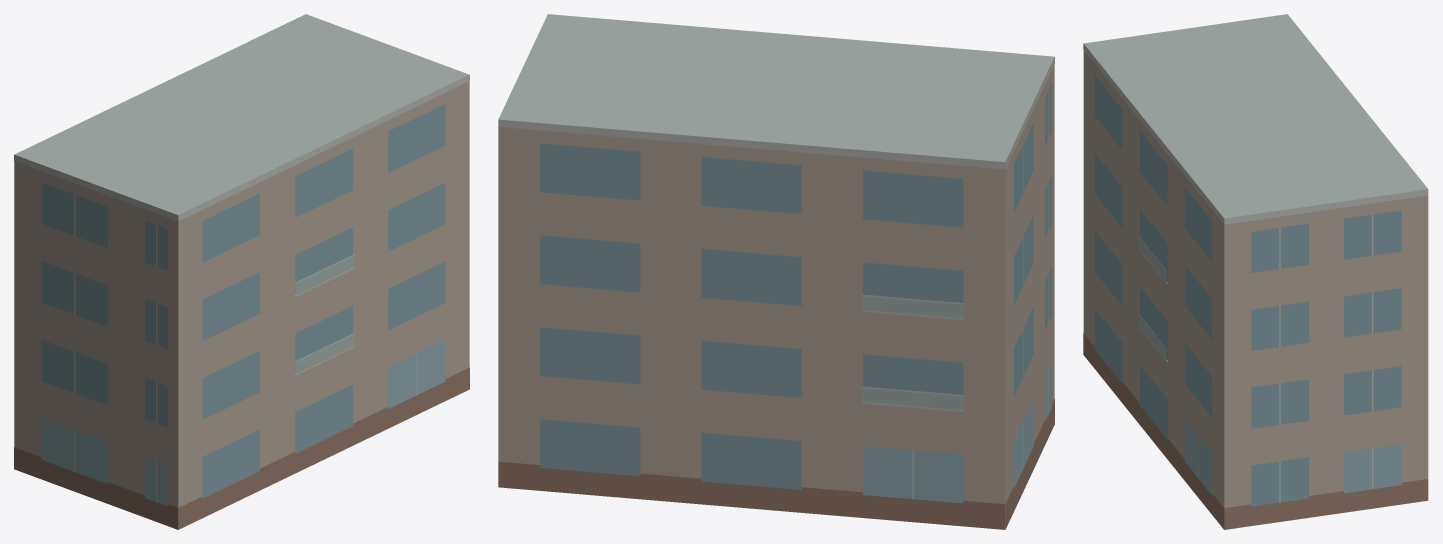
Rendered from residential-e07037ad-1b63-4bad-9655-ccd07be4ef90.glb.
The picture shows the model from 3 angles, left to right: view 1: azimuth 30°, elevation 25°; view 2: azimuth 150°, elevation 25°; view 3: azimuth 270°, elevation 25°; orthographic projection. The views are drawn at different scales.
Parts seen in each view (by area): view 1: residential-e07037ad-1b63-4bad-9655-ccd07be4ef90.tmp; view 2: residential-e07037ad-1b63-4bad-9655-ccd07be4ef90.tmp; view 3: residential-e07037ad-1b63-4bad-9655-ccd07be4ef90.tmp.
Part boxes in pixels (x1,y1,x2,y2): residential-e07037ad-1b63-4bad-9655-ccd07be4ef90.tmp: [14, 14, 469, 529]; residential-e07037ad-1b63-4bad-9655-ccd07be4ef90.tmp: [498, 14, 1054, 529]; residential-e07037ad-1b63-4bad-9655-ccd07be4ef90.tmp: [1083, 14, 1428, 529].
Size of the model in its own units: 17.19 by 12.2 by 12.26.
